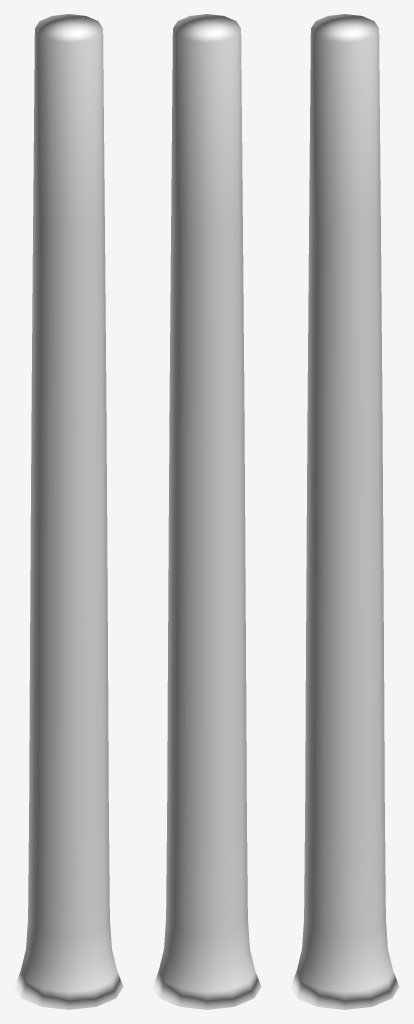
The model's file is birch-trunk-unit-authored-atlas.glb.
The picture shows the model from 3 angles, left to right: view 1: azimuth 30°, elevation 25°; view 2: azimuth 210°, elevation 25°; view 3: azimuth 330°, elevation 25°; orthographic projection.
Visible parts, largest first — view 1: Authored surface; view 2: Authored surface; view 3: Authored surface.
Boxes of the visible parts, <box> form: Authored surface: <box>14,14,123,1009</box>; Authored surface: <box>152,14,261,1009</box>; Authored surface: <box>290,14,399,1009</box>.
Bounding box in the file's own units: 0.32 × 3.1 × 0.32.
1 material, 1 textured.
